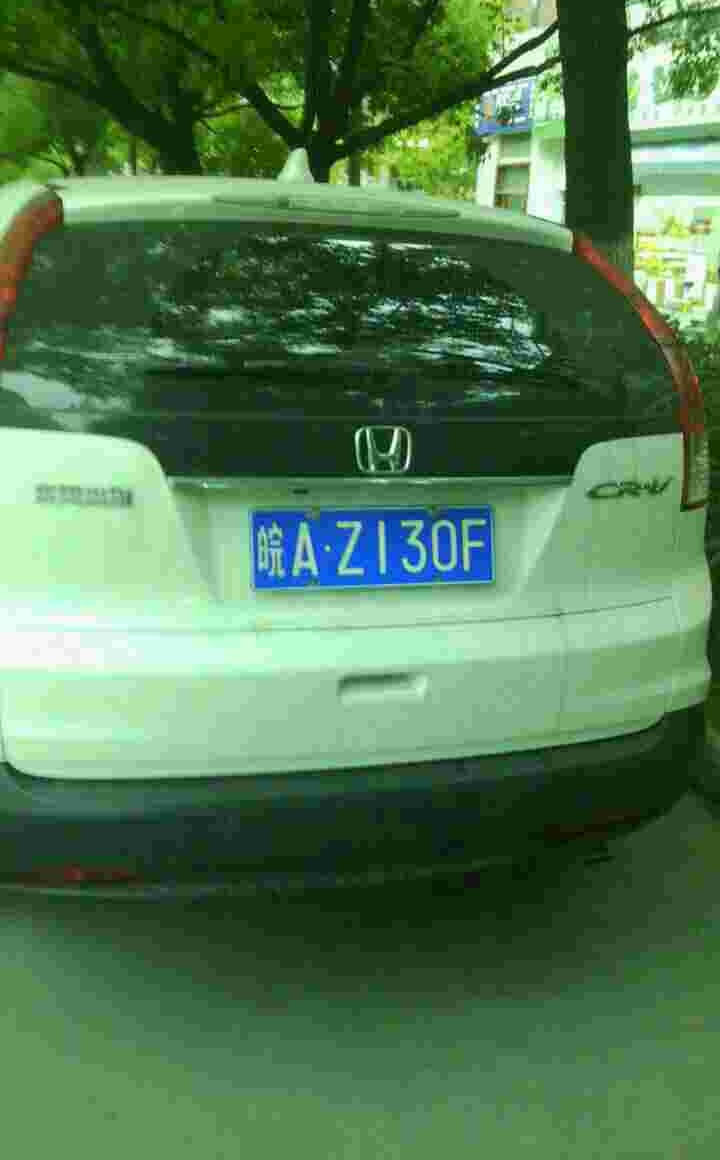plate: (255, 501, 501, 594)
